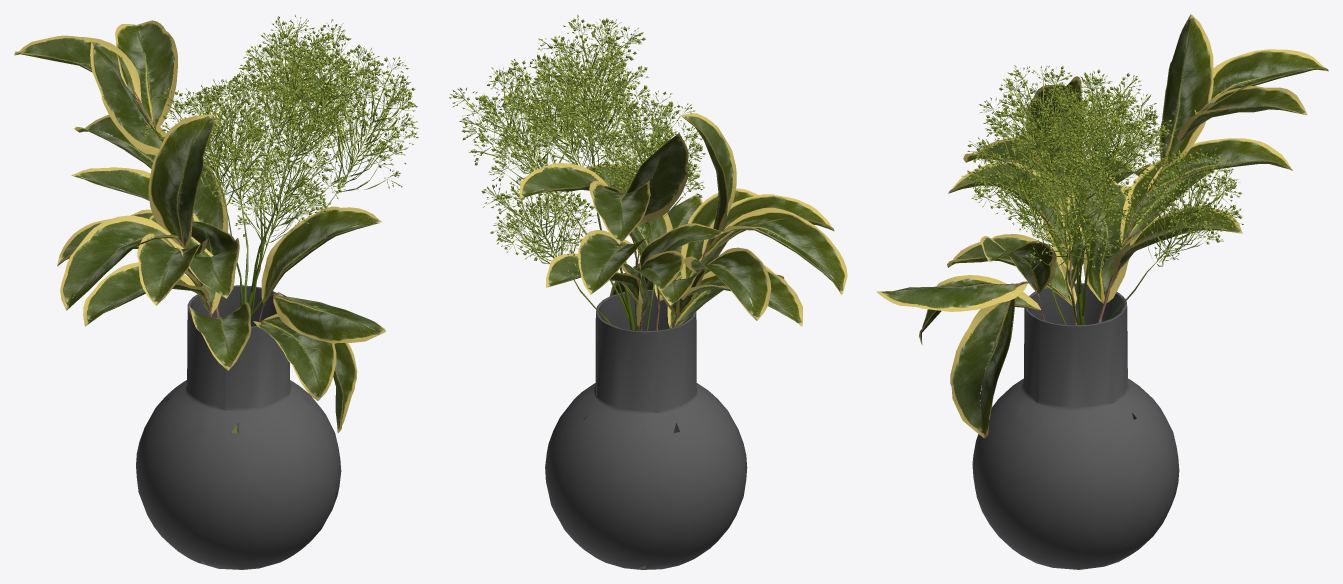
File: flower_vase.glb
3 views of the same model, side by side, from view 1: azimuth 30°, elevation 25°; view 2: azimuth 150°, elevation 25°; view 3: azimuth 270°, elevation 25° (orthographic). The views are drawn at different scales.
Parts seen in each view (by area): view 1: Indoor potted plant; view 2: Indoor potted plant; view 3: Indoor potted plant.
Boxes of the visible parts, x1,y1,x2,y2 form: Indoor potted plant: [14, 14, 418, 569]; Indoor potted plant: [449, 14, 847, 569]; Indoor potted plant: [877, 14, 1328, 569].
Bounding box in the file's own units: 0.3297 × 0.4272 × 0.3465.
Materials: 4 (3 with a texture image).
